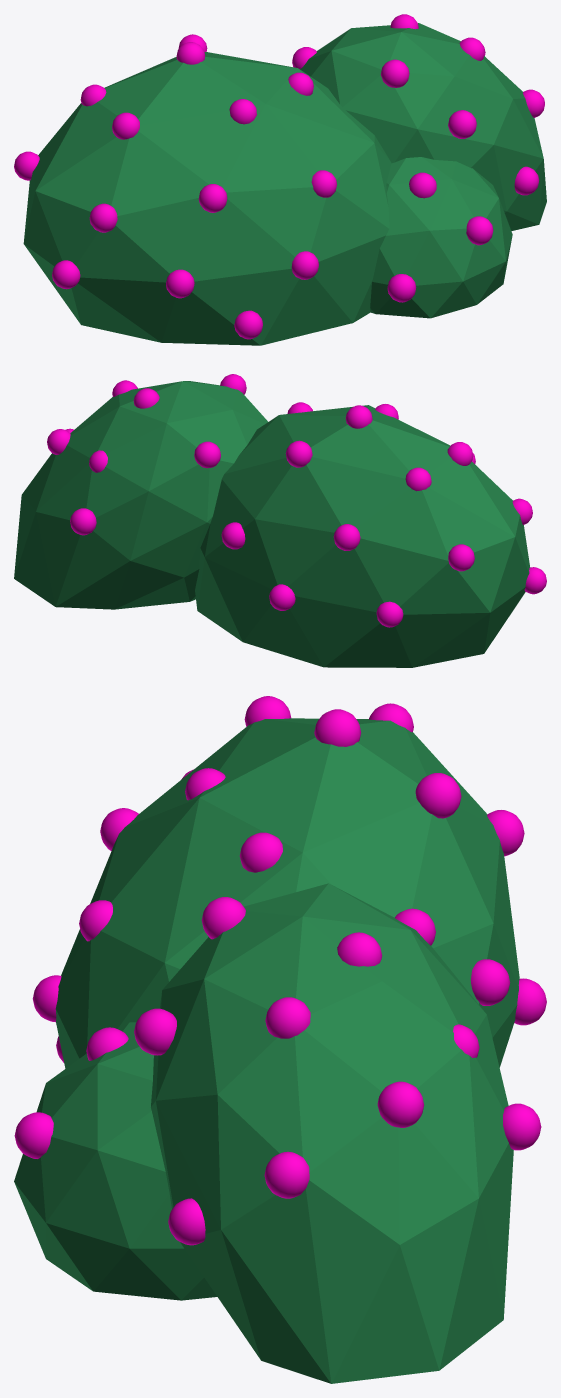
The model's file is Berry_Bush.glb.
The picture shows the model from 3 angles, top to bottom: view 1: azimuth 30°, elevation 25°; view 2: azimuth 150°, elevation 25°; view 3: azimuth 270°, elevation 25°; orthographic projection. The views are drawn at different scales.
Parts seen in each view (by area): view 1: Bush, Berry.001, Berry.023, Berry.004, Berry.005, Berry.006, Berry, Berry.019, Berry.024, Berry.003, Berry.022, Berry.015 (+10 smaller); view 2: Bush, Berry.018, Berry.017, Berry.010, Berry.027, Berry.016, Berry.028, Berry.029, Berry.012, Berry.014, Berry.030, Berry.015 (+3 smaller); view 3: Bush, Berry.009, Berry.008, Berry.016, Berry.004, Berry.025, Berry.012, Berry.010, Berry.003, Berry.014, Berry.007, Berry.013 (+9 smaller).
Boxes of the visible parts, bbox=[...] form: Bush: bbox=[23, 23, 546, 345]; Berry.001: bbox=[198, 184, 227, 212]; Berry.023: bbox=[166, 269, 194, 298]; Berry.004: bbox=[448, 110, 476, 138]; Berry.005: bbox=[387, 274, 416, 302]; Berry.006: bbox=[234, 310, 262, 339]; Berry: bbox=[89, 203, 117, 232]; Berry.019: bbox=[380, 59, 409, 87]; Berry.024: bbox=[52, 260, 80, 289]; Berry.003: bbox=[466, 216, 493, 245]; Berry.022: bbox=[291, 251, 318, 279]; Berry.015: bbox=[112, 112, 139, 139]; Bush: bbox=[14, 381, 530, 667]; Berry.018: bbox=[448, 544, 474, 571]; Berry.017: bbox=[333, 524, 360, 550]; Berry.010: bbox=[70, 508, 96, 535]; Berry.027: bbox=[194, 441, 220, 468]; Berry.016: bbox=[285, 440, 312, 467]; Berry.028: bbox=[269, 584, 295, 610]; Berry.029: bbox=[376, 601, 403, 627]; Berry.012: bbox=[221, 522, 245, 549]; Berry.014: bbox=[345, 405, 372, 428]; Berry.030: bbox=[405, 467, 431, 491]; Berry.015: bbox=[447, 442, 473, 465]; Bush: bbox=[14, 718, 519, 1383]; Berry.009: bbox=[377, 1081, 424, 1127]; Berry.008: bbox=[264, 1151, 309, 1198]; Berry.016: bbox=[415, 773, 461, 818]; Berry.004: bbox=[134, 1008, 176, 1055]; Berry.025: bbox=[265, 997, 310, 1038]; Berry.012: bbox=[470, 959, 510, 1005]; Berry.010: bbox=[503, 1103, 541, 1150]; Berry.003: bbox=[14, 1112, 53, 1158]; Berry.014: bbox=[314, 709, 361, 746]; Berry.007: bbox=[168, 1198, 205, 1245]; Berry.013: bbox=[239, 832, 282, 872].
Bounding box in the file's own units: 20.73 × 9.24 × 11.34.
